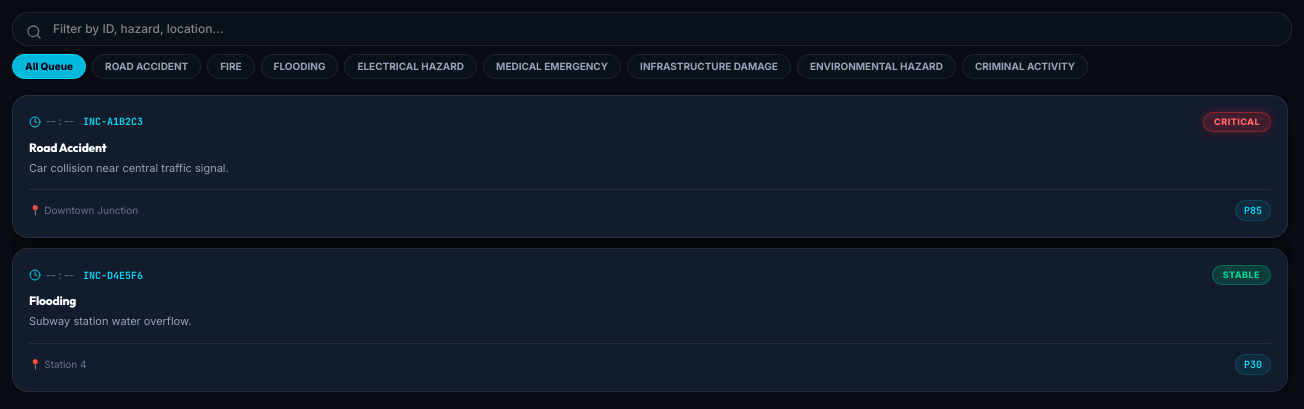
Scenario: IncidentQueue Component › filters queue items by search input query
The image size is (1304, 409).
Type "subway" into the field with placeholder "Filter by ID, hazard, location..." at (652, 29), box [12,12,1292,46]
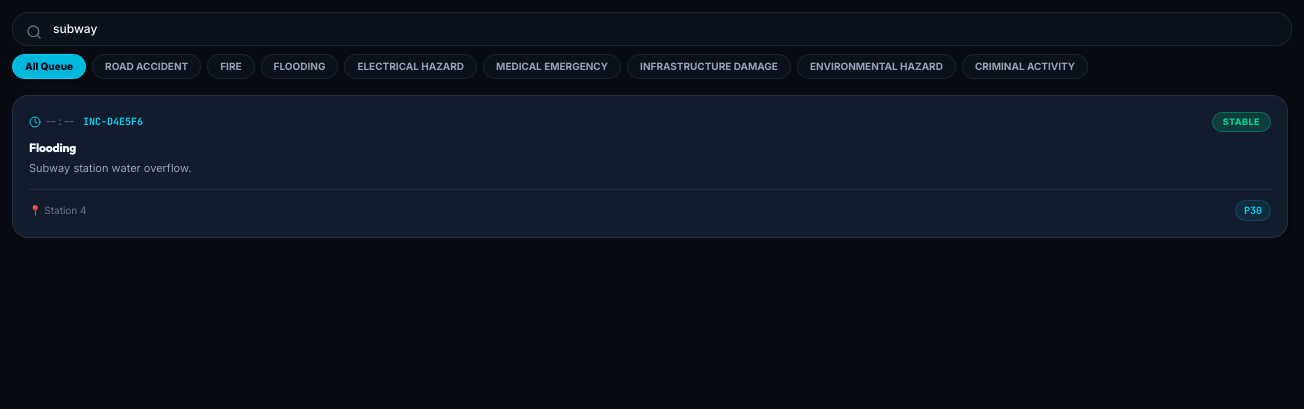
Expected: the text "INC-D4E5F6" is shown, [83,114,143,129]
Expected: the text "INC-A1B2C3" is gone
